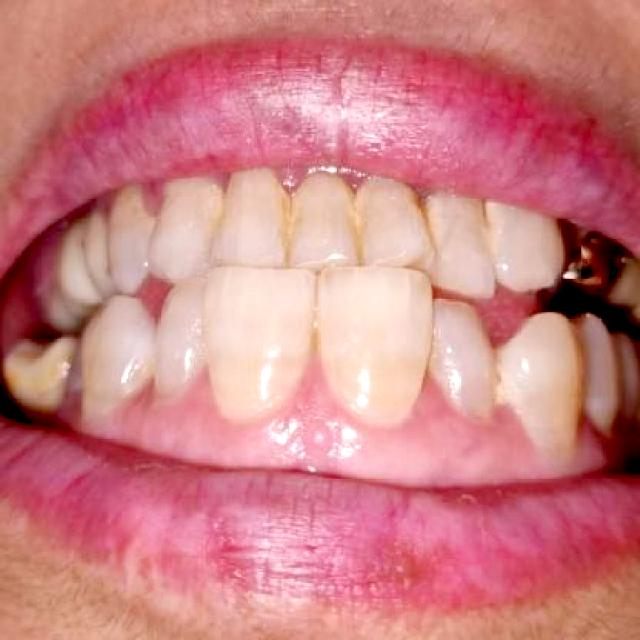Plaque: (275, 365, 358, 430), (411, 377, 470, 418), (330, 165, 370, 193), (183, 364, 211, 401), (274, 168, 315, 193), (492, 396, 520, 421), (148, 185, 162, 216), (211, 175, 231, 190), (413, 185, 427, 203)
